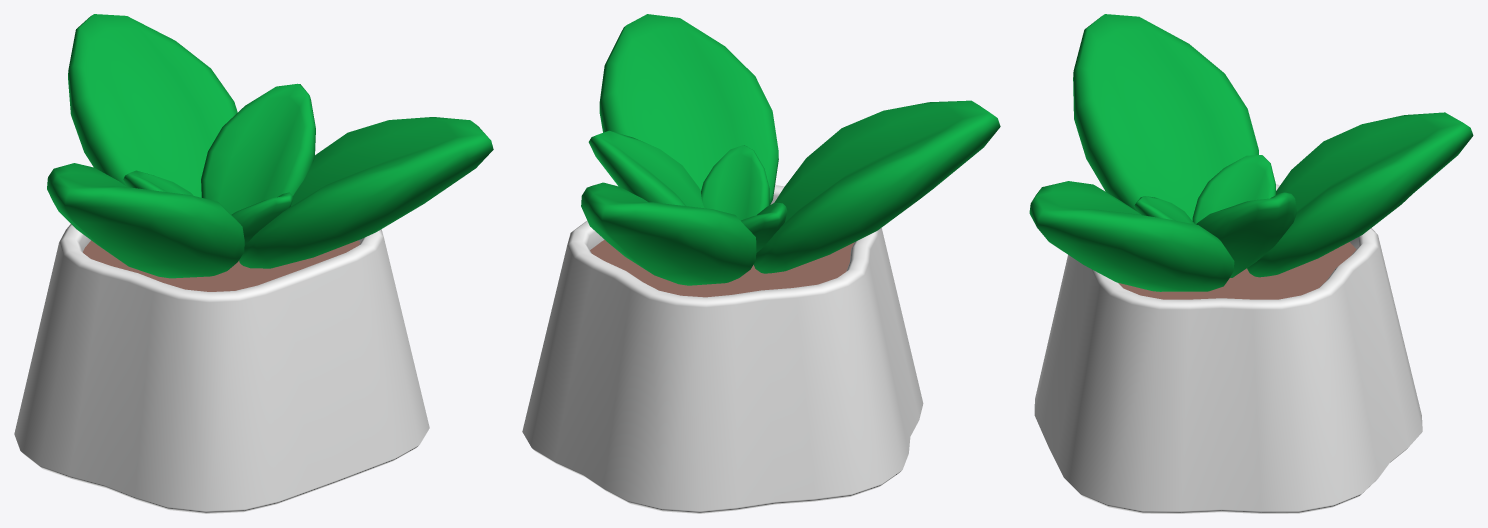
The model's file is Store_6_Plant_5.glb.
3 renders of one model, left to right at view 1: azimuth 30°, elevation 25°; view 2: azimuth 150°, elevation 25°; view 3: azimuth 270°, elevation 25°, orthographic. The views are drawn at different scales.
Parts seen in each view (by area): view 1: Store_6_Plant_5; view 2: Store_6_Plant_5; view 3: Store_6_Plant_5.
Part boxes in pixels (x1,y1,x2,y2): Store_6_Plant_5: [14, 14, 493, 513]; Store_6_Plant_5: [522, 14, 1000, 513]; Store_6_Plant_5: [1029, 14, 1473, 513].
Bounding box in the file's own units: 0.4955 × 0.3932 × 0.4884.
1 material, 1 textured.
